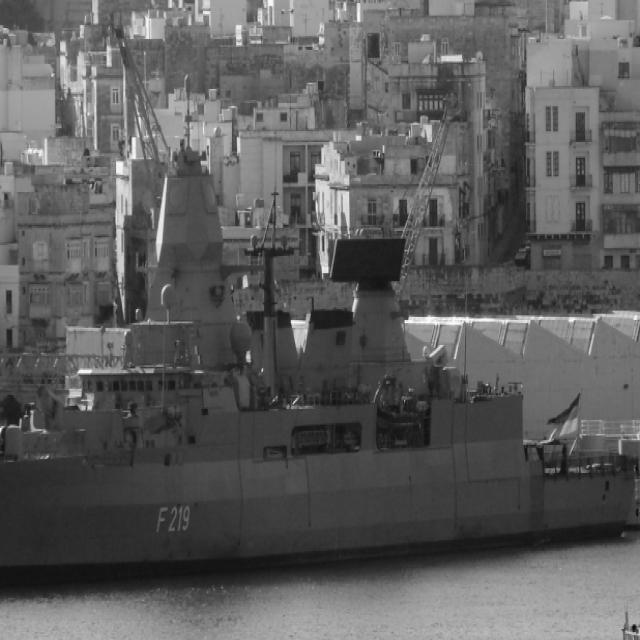Fragata: (1, 113, 640, 602)
